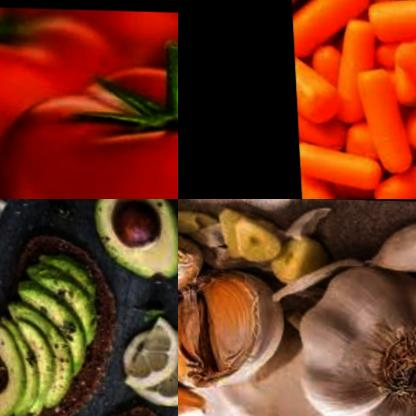avocado: (0, 247, 104, 416), (85, 199, 178, 288)
carrot: (288, 0, 416, 199)
garlic: (290, 273, 416, 416), (178, 261, 286, 403), (206, 338, 379, 416), (204, 206, 339, 301), (358, 216, 416, 272), (178, 206, 204, 310), (178, 369, 218, 416)
tomato: (0, 5, 178, 199)
